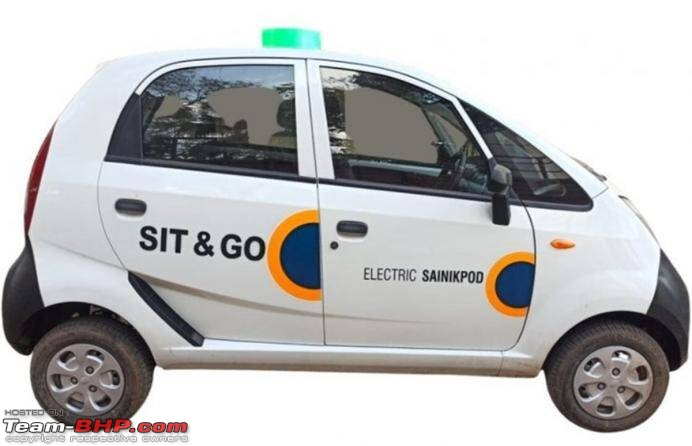Nano: (2, 27, 689, 434)
